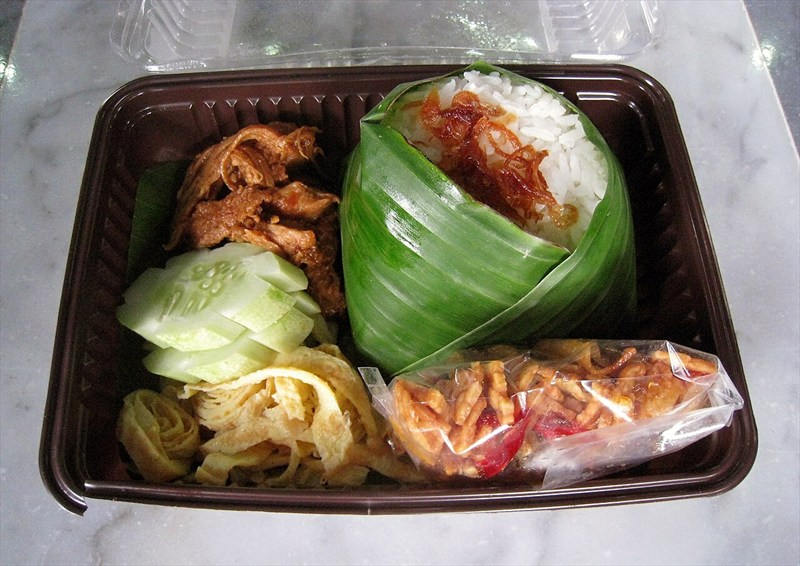Tempe Goreng: (107, 79, 698, 510)
